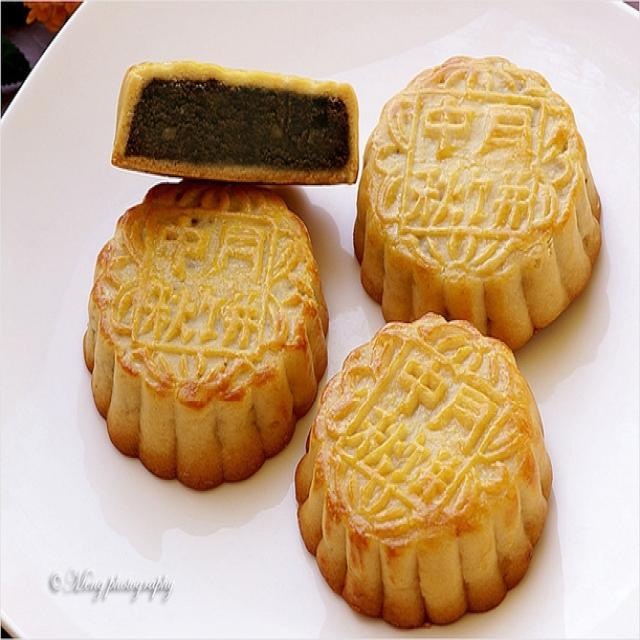蛋糕甜品: (73, 36, 597, 613)
